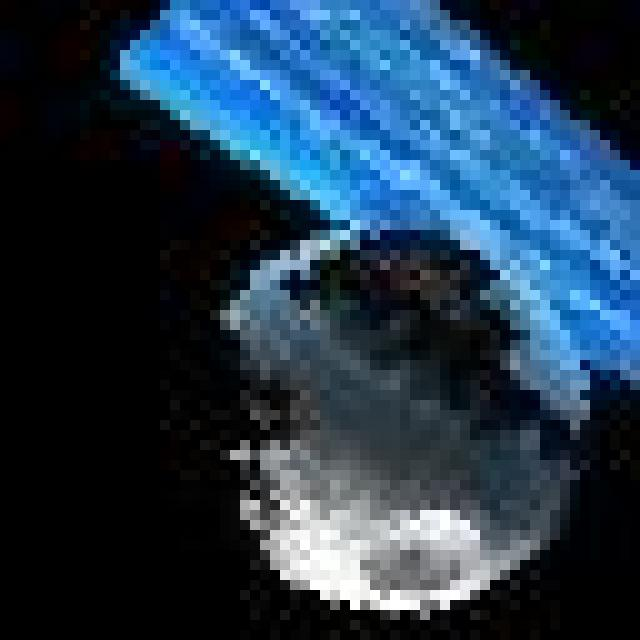Death Star: (196, 213, 597, 626)
